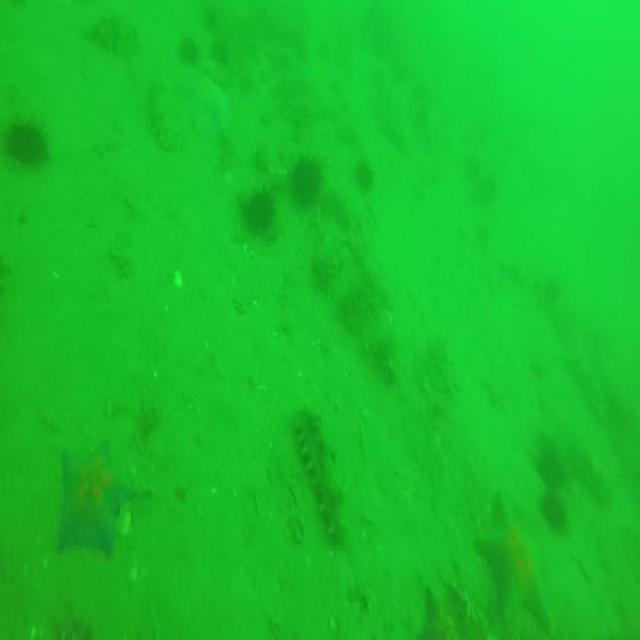echinus: (6, 117, 47, 172), (288, 153, 327, 210), (241, 188, 277, 226)
holothurian: (285, 406, 352, 542)
starfish: (466, 486, 555, 640), (57, 446, 131, 558), (186, 73, 228, 131), (419, 588, 463, 640)
